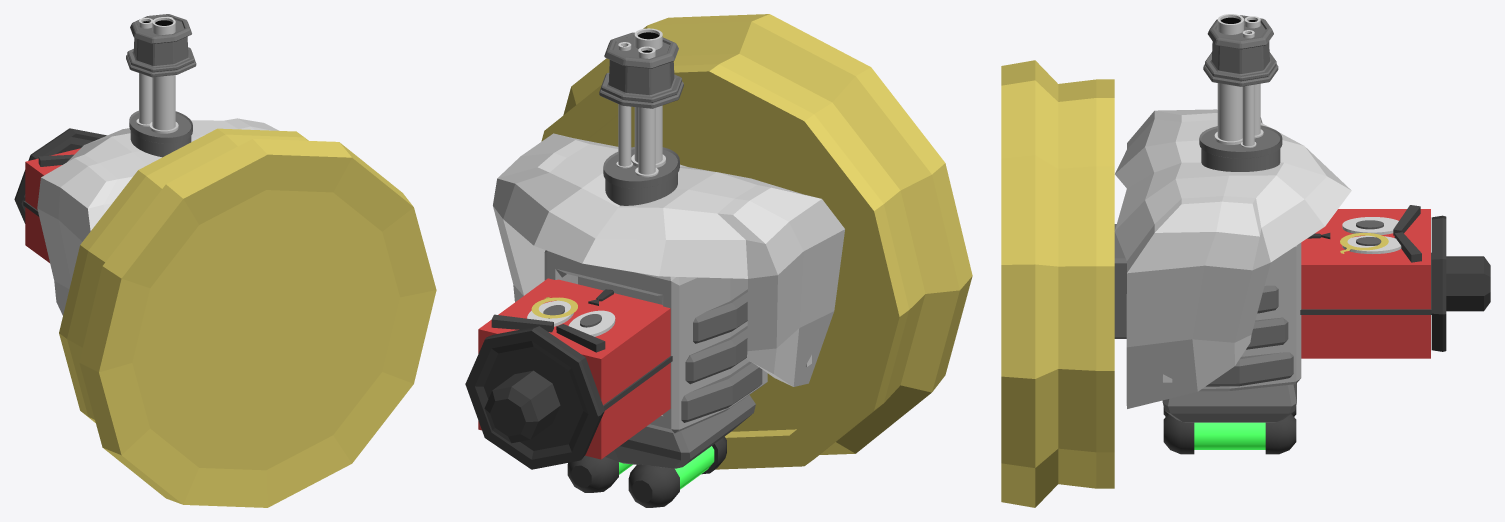
The model's file is MinigunBoss.fbx.
The picture shows the model from 3 angles, left to right: view 1: azimuth 30°, elevation 25°; view 2: azimuth 150°, elevation 25°; view 3: azimuth 270°, elevation 25°; orthographic projection. The views are drawn at different scales.
Visible parts, largest first — view 1: Base, Shield, BarrelCap, Barrels, cubo, BarrelCap.001, Hat; view 2: Base, Shield, Hat, cubo, Box, Battery, BarrelCap, BatterySupport, Barrels, BarrelCap.001, BoxDetail.002, BoxDetail.001 (+4 smaller); view 3: Base, Shield, cubo, Hat, BatterySupport, Battery, Box, BarrelCap, Barrels, BarrelCap.001, BoxDetail.002, Collumn (+3 smaller).
Part boxes in pixels (x1,y1,x2,y2): Base: (59,128,436,507); Shield: (37,118,279,315); BarrelCap: (126,14,196,77); Barrels: (136,16,178,133); cubo: (25,148,80,262); BarrelCap.001: (129,110,192,157); Hat: (14,128,106,223); Base: (541,14,972,469); Shield: (493,133,844,386); Hat: (465,326,604,469); cubo: (478,278,670,459); Box: (544,250,767,433); Battery: (567,436,726,507); BarrelCap: (599,32,683,108); BatterySupport: (605,395,755,468); Barrels: (616,28,665,177); BarrelCap.001: (603,147,679,205); BoxDetail.002: (681,361,762,422); BoxDetail.001: (685,326,747,384); Base: (1001,60,1114,507); Shield: (1114,109,1351,408); cubo: (1301,209,1430,358); Hat: (1431,215,1490,351); BatterySupport: (1162,383,1296,422); Battery: (1163,406,1296,454); Box: (1199,242,1301,391); BarrelCap: (1203,15,1278,86); Barrels: (1214,14,1263,147); BarrelCap.001: (1199,125,1282,171); BoxDetail.002: (1206,352,1293,386); Collumn: (1114,224,1126,338).
Size of the model in its own units: 8.68 by 9.96 by 9.45.
